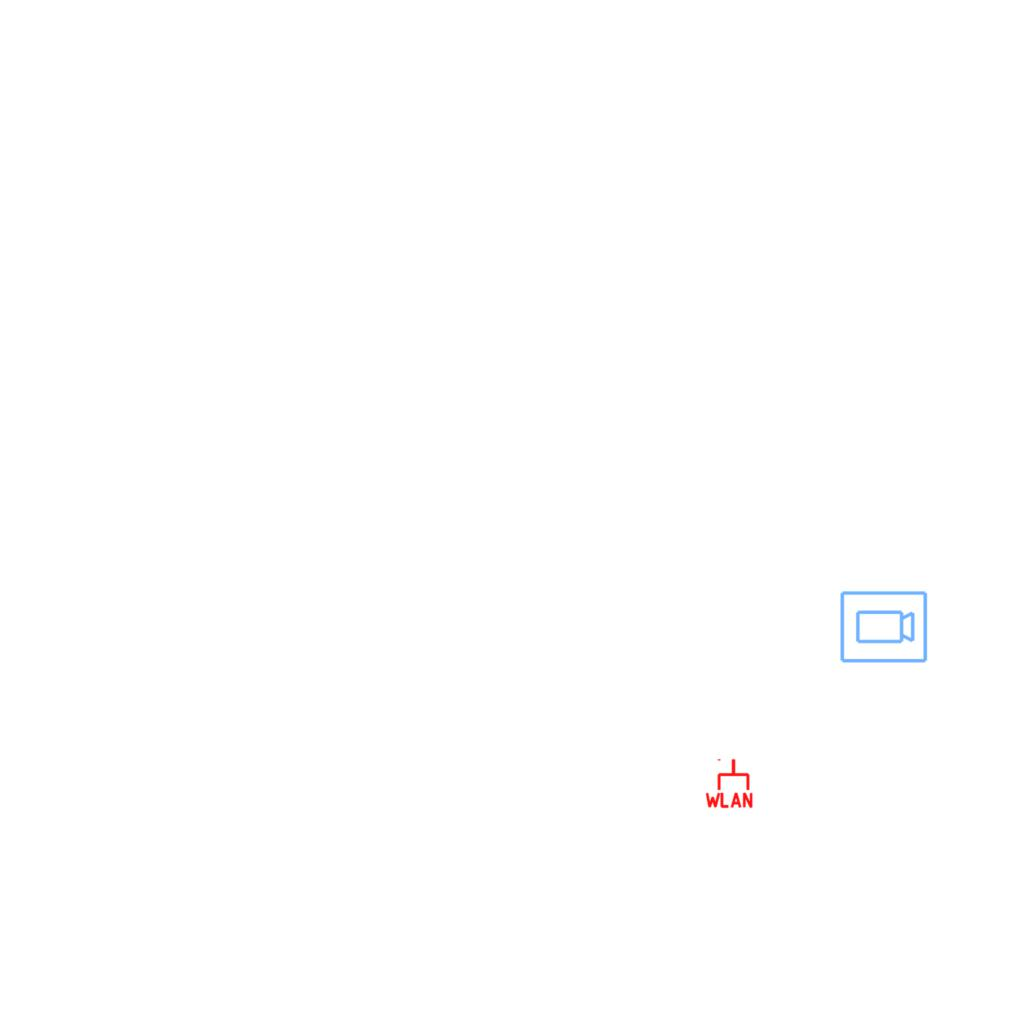KFO_Kamera_mit_Festobjektiv: (838, 589, 929, 666)
WLAN: (703, 757, 755, 809)
